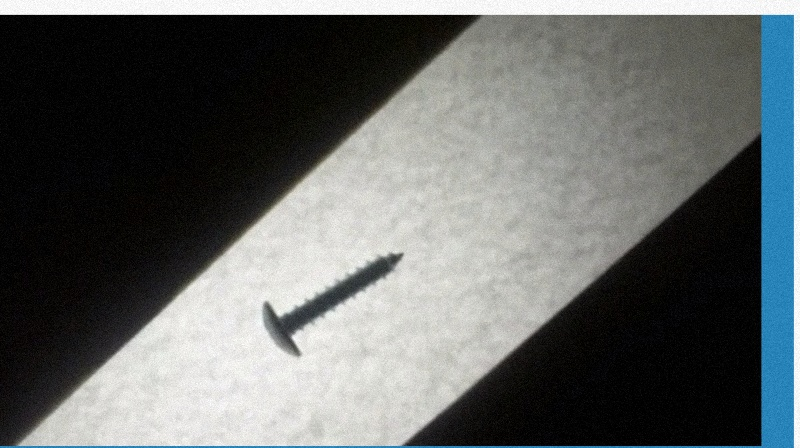S003: (254, 250, 408, 358)
